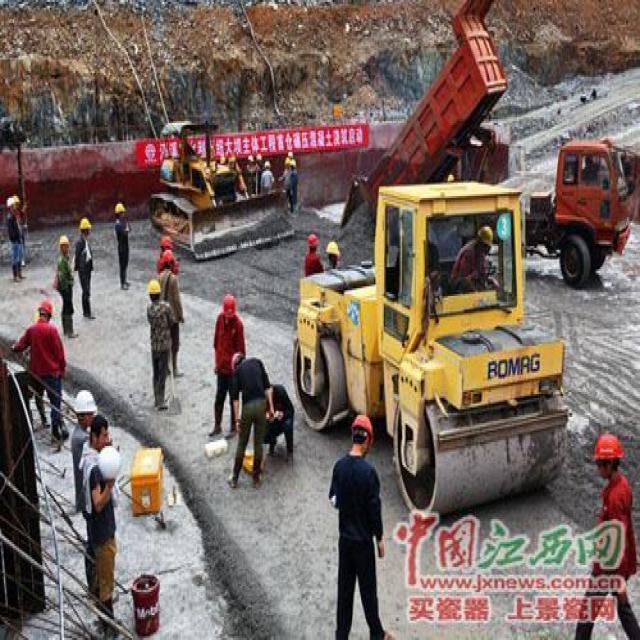helmet: (594, 430, 630, 482), (345, 408, 379, 458), (72, 384, 100, 432), (216, 290, 242, 327), (472, 225, 500, 259), (145, 275, 165, 307), (36, 296, 55, 329), (304, 232, 324, 262), (77, 213, 96, 240), (326, 240, 343, 269), (56, 230, 76, 253), (229, 352, 247, 376), (160, 244, 175, 269), (115, 200, 128, 223)
no-helmet: (88, 411, 112, 448)
